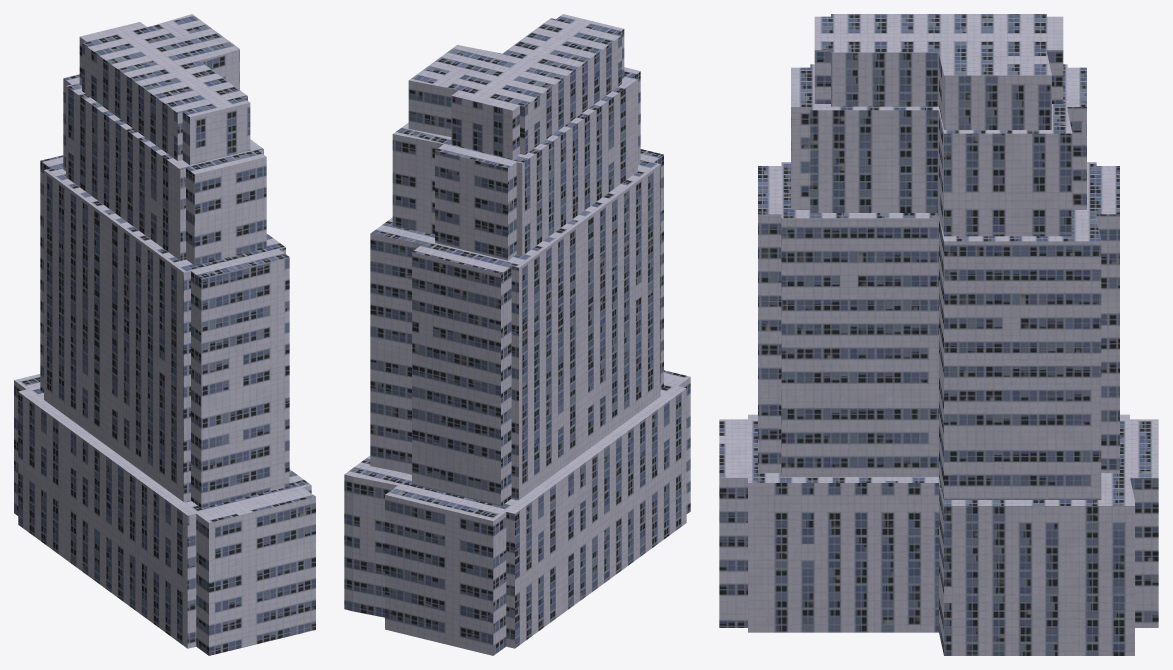
Rendered from la-tower-g.glb.
The picture shows the model from 3 angles, left to right: view 1: azimuth 30°, elevation 25°; view 2: azimuth 150°, elevation 25°; view 3: azimuth 270°, elevation 25°; orthographic projection. The views are drawn at different scales.
Visible parts, largest first — view 1: tower-g; view 2: tower-g; view 3: tower-g.
Boxes of the visible parts, x1,y1,x2,y2 form: tower-g: (14, 14, 315, 655); tower-g: (344, 14, 690, 655); tower-g: (719, 14, 1158, 655).
Size of the model in its own units: 81.35 by 235 by 165.
Materials: 1 (1 with a texture image).
